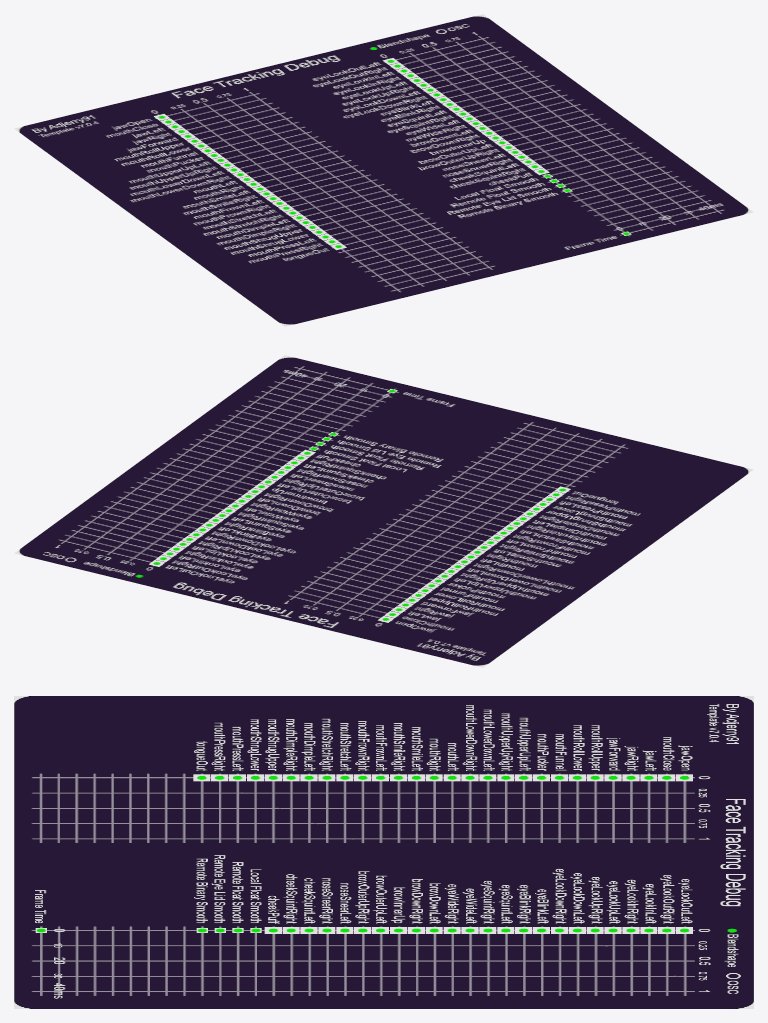
Rendered from FT_ARkit_Debug.fbx.
The picture shows the model from 3 angles, top to bottom: view 1: azimuth 30°, elevation 25°; view 2: azimuth 150°, elevation 25°; view 3: azimuth 270°, elevation 25°; orthographic projection. The views are drawn at different scales.
Parts seen in each view (by area): view 1: Debug; view 2: Debug; view 3: Debug.
Part boxes in pixels (<box>): Debug: <box>14,14,753,326</box>; Debug: <box>14,355,753,667</box>; Debug: <box>14,696,753,1008</box>.
Size of the model in its own units: 0.75 by 4.94e-07 by 0.75.
